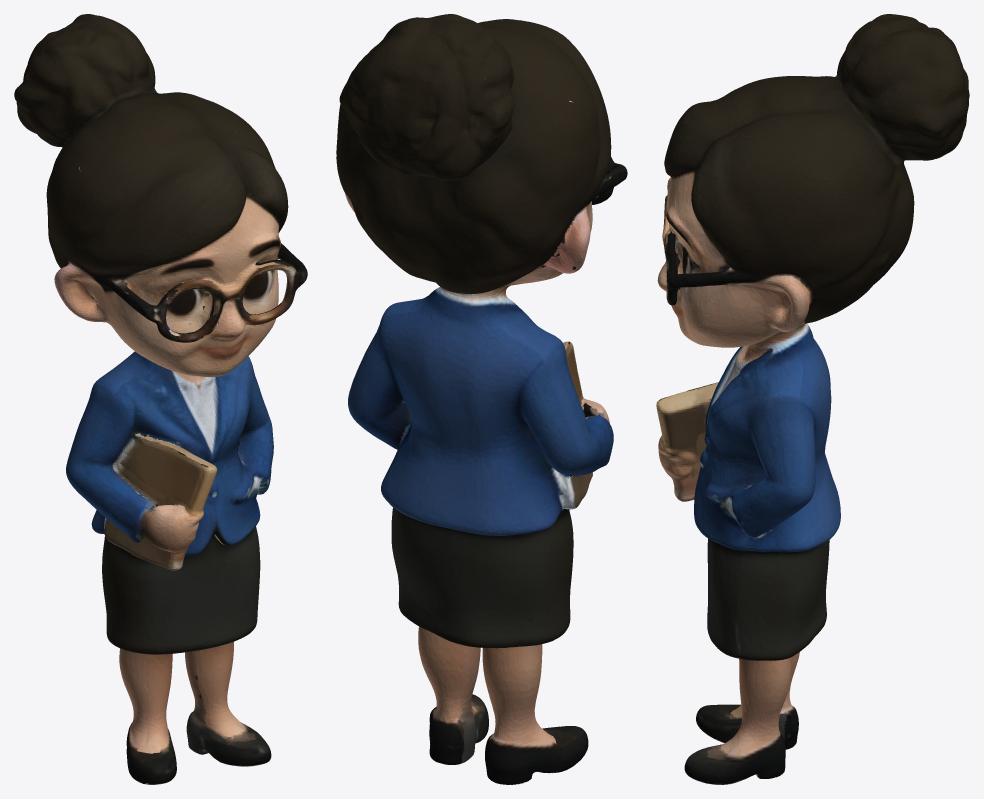
The model's file is Teacher_lady_1_with_texture.glb.
3 renders of one model, left to right at view 1: azimuth 30°, elevation 25°; view 2: azimuth 150°, elevation 25°; view 3: azimuth 270°, elevation 25°, orthographic. The views are drawn at different scales.
Visible parts, largest first — view 1: world; view 2: world; view 3: world.
Boxes of the visible parts, x1,y1,x2,y2 form: world: [14, 14, 307, 784]; world: [336, 14, 627, 784]; world: [656, 14, 969, 784].
Bounding box in the file's own units: 0.6402 × 2 × 0.7864.
Materials: 1 (1 with a texture image).
